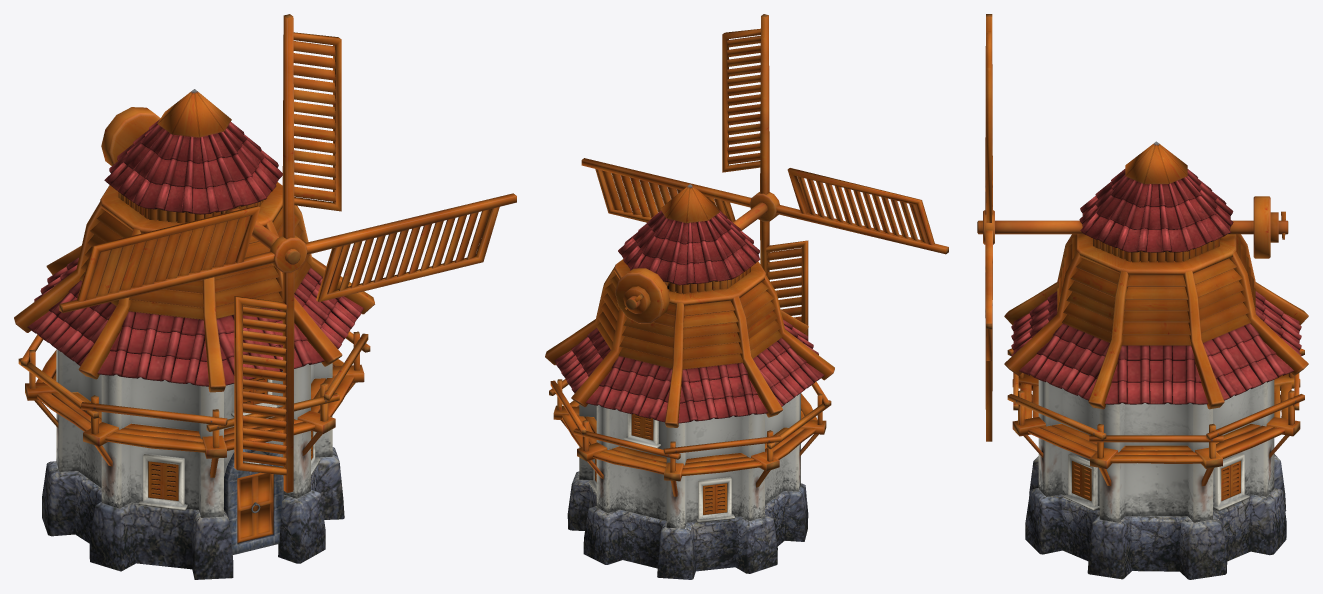
File: windmill_aartee.glb
3 renders of one model, left to right at view 1: azimuth 30°, elevation 25°; view 2: azimuth 150°, elevation 25°; view 3: azimuth 270°, elevation 25°, orthographic. The views are drawn at different scales.
Parts seen in each view (by area): view 1: Fan_003_low, WallStone_low, Wall_low, Roof_low, Roof_011_low, Fan_007_low, Fan_006_low, Support_low, Shutters_001_low, Planks_low, Doors_low, Doors_003_low (+13 smaller); view 2: Wall_low, WallStone_low, Roof_low, Fan_003_low, Shutters_001_low, Roof_011_low, Support_low, Fan_007_low, Fan_006_low, Planks_low, Fan_005_low, Support_002_low (+11 smaller); view 3: Wall_low, WallStone_low, Roof_low, Shutters_001_low, Roof_011_low, Support_low, Planks_low, Support_002_low, Fan_007_low, Planks_005_low, Fan_low, Tip_low (+9 smaller).
Boxes of the visible parts, x1=… form: Fan_003_low: x1=86, y1=41, x2=490, y2=466; WallStone_low: x1=42, y1=447, x2=344, y2=579; Wall_low: x1=56, y1=349, x2=332, y2=517; Roof_low: x1=27, y1=257, x2=363, y2=386; Roof_011_low: x1=104, y1=119, x2=282, y2=214; Fan_007_low: x1=59, y1=14, x2=516, y2=492; Fan_006_low: x1=77, y1=32, x2=499, y2=475; Support_low: x1=14, y1=201, x2=374, y2=392; Shutters_001_low: x1=79, y1=208, x2=311, y2=319; Planks_low: x1=36, y1=350, x2=354, y2=452; Doors_low: x1=224, y1=442, x2=283, y2=554; Doors_003_low: x1=237, y1=472, x2=273, y2=543; Wall_low: x1=579, y1=393, x2=800, y2=528; WallStone_low: x1=567, y1=471, x2=808, y2=579; Roof_low: x1=554, y1=319, x2=824, y2=423; Fan_003_low: x1=602, y1=35, x2=927, y2=321; Shutters_001_low: x1=596, y1=275, x2=782, y2=369; Roof_011_low: x1=618, y1=210, x2=760, y2=285; Support_low: x1=545, y1=267, x2=834, y2=427; Fan_007_low: x1=581, y1=14, x2=948, y2=280; Fan_006_low: x1=595, y1=28, x2=934, y2=340; Planks_low: x1=562, y1=393, x2=817, y2=475; Fan_005_low: x1=615, y1=268, x2=670, y2=323; Support_002_low: x1=614, y1=259, x2=765, y2=305; Wall_low: x1=1038, y1=380, x2=1274, y2=522; WallStone_low: x1=1025, y1=454, x2=1286, y2=579; Roof_low: x1=1011, y1=291, x2=1301, y2=404; Shutters_001_low: x1=1057, y1=235, x2=1255, y2=345; Roof_011_low: x1=1079, y1=169, x2=1233, y2=252; Support_low: x1=1004, y1=234, x2=1308, y2=409; Planks_low: x1=1020, y1=383, x2=1291, y2=463; Support_002_low: x1=1076, y1=234, x2=1236, y2=275; Fan_007_low: x1=985, y1=14, x2=992, y2=441; Planks_005_low: x1=1012, y1=374, x2=1300, y2=468; Fan_low: x1=977, y1=220, x2=1288, y2=234; Tip_low: x1=1125, y1=141, x2=1187, y2=184.
Size of the model in its own units: 1267 by 1521 by 895.
1 material, 1 textured.
